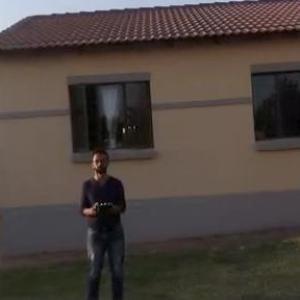follow: (76, 143, 132, 299)
